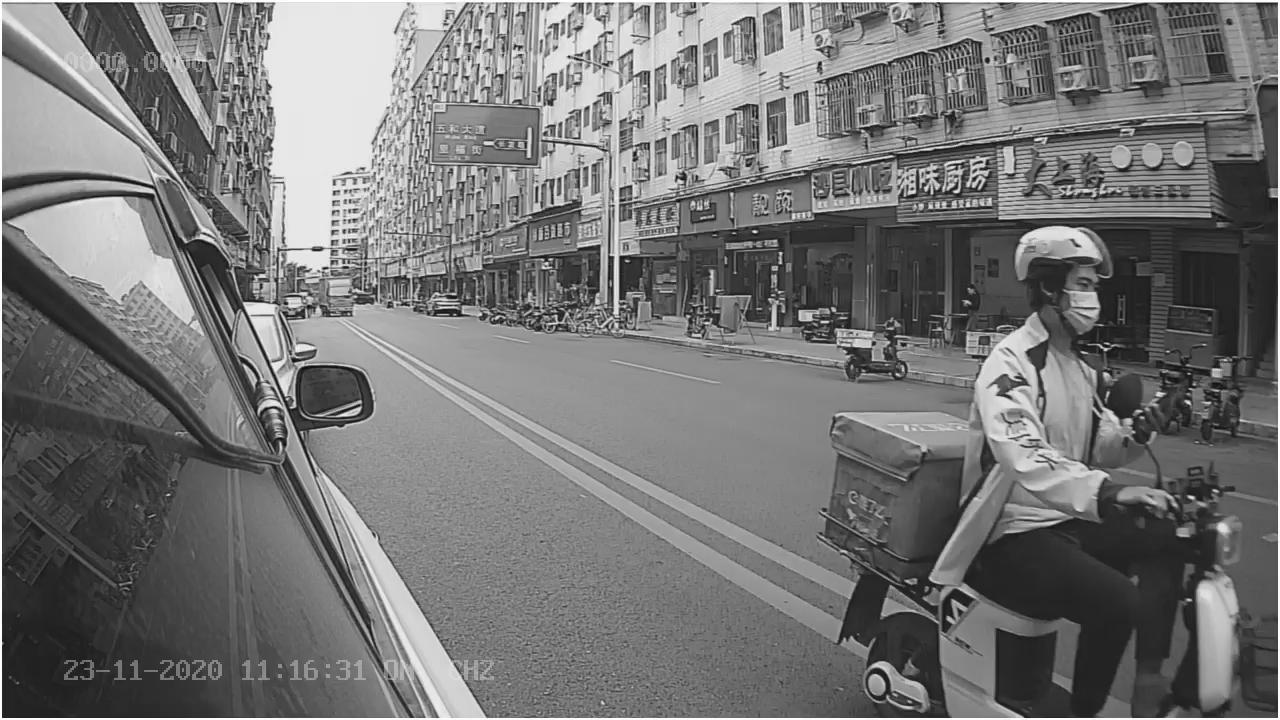person: (965, 217, 1197, 512)
